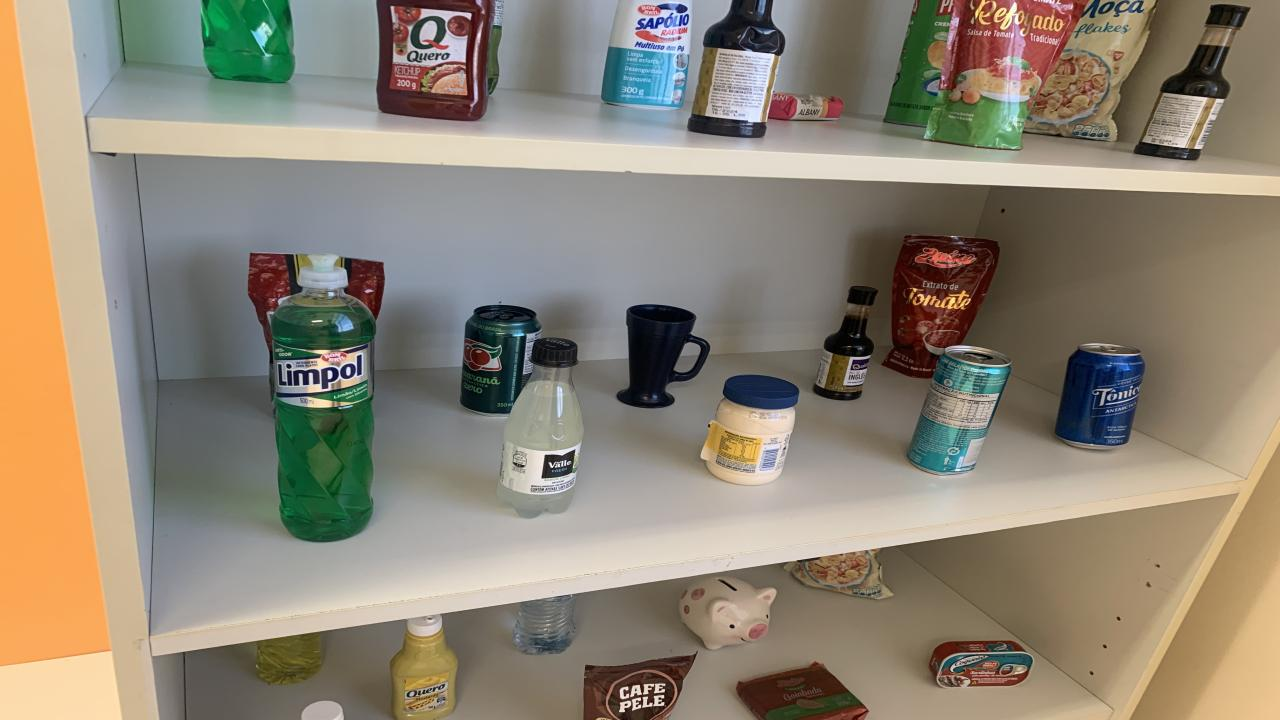Cleaner-Cleanup_Items: (602, 0, 692, 111)
Coffee-Pantry_Items: (582, 654, 695, 720)
Detergent-Cleanup_Items: (270, 255, 375, 542), (200, 0, 295, 82), (258, 632, 322, 684)
English_Sauce-Pantry_Items: (1135, 4, 1250, 159), (688, 0, 785, 137), (815, 287, 878, 399)
Flakes-Snacks: (1025, 0, 1155, 141), (785, 549, 892, 598)
Guarana_Can-Drinks: (460, 304, 540, 414)
Guava-Snacks: (738, 662, 868, 720)
Ketchup-Pantry_Items: (378, 0, 495, 120)
Mayonnaise-Pantry_Items: (700, 375, 800, 486)
Mustard-Pantry_Items: (390, 615, 458, 720), (300, 701, 345, 720)
Pig_Safe-Miscellaneous: (680, 578, 778, 649)
Pringles-Snacks: (885, 0, 952, 128)
Soap-Cleanup_Items: (768, 92, 842, 120)
Soda-Drinks: (498, 338, 582, 518)
Tea-Drinks: (908, 345, 1010, 474)
Tomato_Sauce-Pantry_Items: (925, 0, 1085, 150), (882, 234, 1000, 379), (248, 253, 310, 354), (338, 257, 385, 317)
Tonic-Drinks: (1055, 343, 1145, 450)
Tuna_Can-Pantry_Items: (930, 641, 1035, 688)
Water_Bottle-Drinks: (512, 594, 575, 654)
